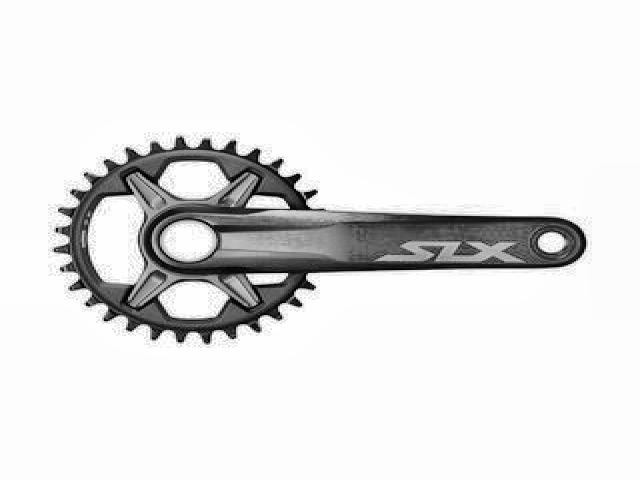cranks_set: (55, 132, 590, 346)
